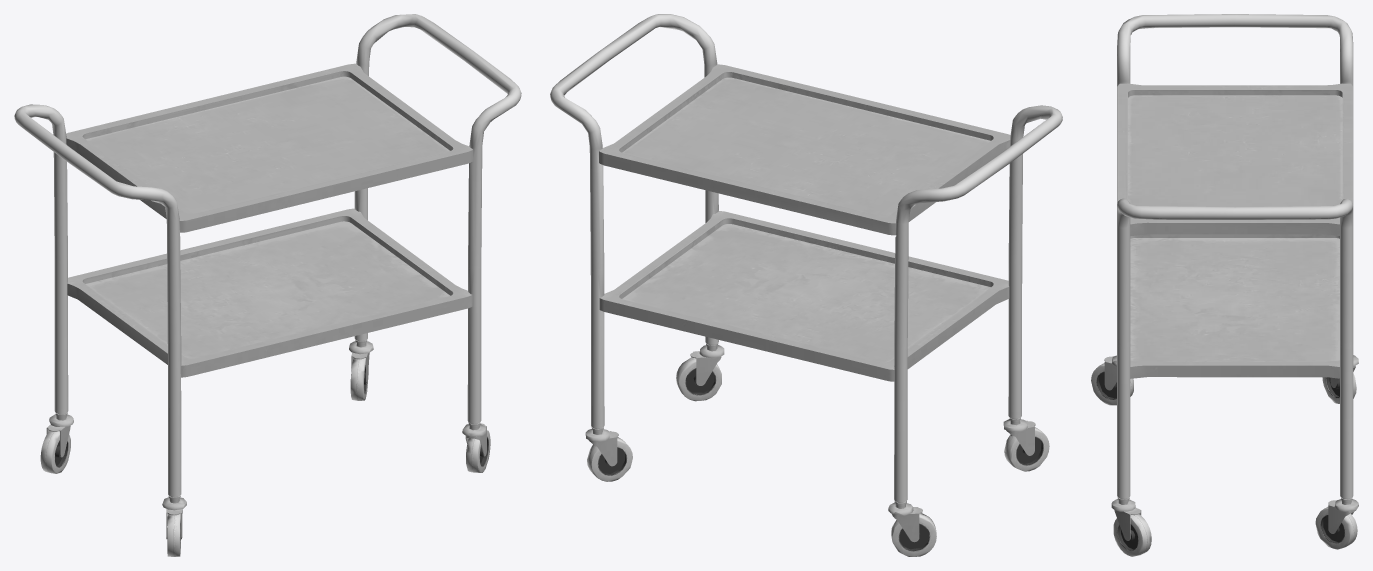
The model's file is hospital_trolley.glb.
3 renders of one model, left to right at view 1: azimuth 30°, elevation 25°; view 2: azimuth 150°, elevation 25°; view 3: azimuth 270°, elevation 25°, orthographic. The views are drawn at different scales.
Visible parts, largest first — view 1: Trolley_Trolley_0; view 2: Trolley_Trolley_0; view 3: Trolley_Trolley_0.
Part boxes in pixels (x1=…): Trolley_Trolley_0: x1=14, y1=14, x2=521, y2=556; Trolley_Trolley_0: x1=550, y1=14, x2=1062, y2=556; Trolley_Trolley_0: x1=1091, y1=14, x2=1358, y2=556.
Bounding box in the file's own units: 1.06 × 0.9138 × 0.6042.
1 material, 1 textured.
